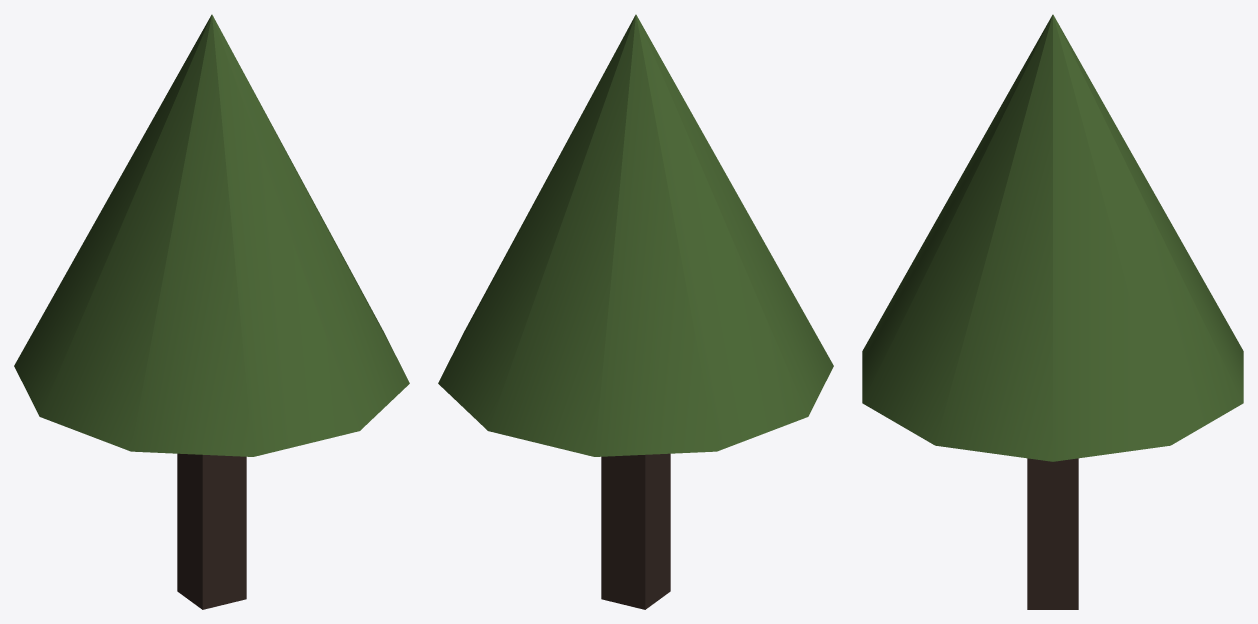
The model's file is tree_02.fbx.
3 renders of one model, left to right at view 1: azimuth 30°, elevation 25°; view 2: azimuth 150°, elevation 25°; view 3: azimuth 270°, elevation 25°, orthographic.
Visible parts, largest first — view 1: Leaves, Trunk; view 2: Leaves, Trunk; view 3: Leaves, Trunk.
Boxes of the visible parts, left/top/right/bottom form: Leaves: left=14, top=14, right=409, bottom=456; Trunk: left=177, top=453, right=246, bottom=609; Leaves: left=438, top=14, right=833, bottom=456; Trunk: left=601, top=453, right=670, bottom=609; Leaves: left=862, top=14, right=1243, bottom=461; Trunk: left=1027, top=458, right=1078, bottom=609.
Bounding box in the file's own units: 78.2 × 126 × 74.37.
